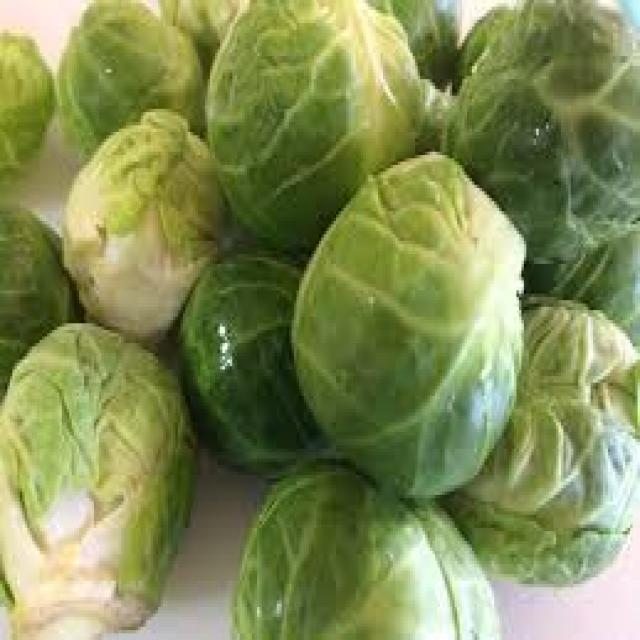organic waste: (287, 145, 526, 495), (0, 316, 195, 636), (435, 287, 637, 587), (440, 0, 637, 277), (203, 0, 420, 251), (227, 458, 502, 636), (59, 102, 225, 340), (175, 241, 324, 472), (52, 0, 200, 152), (0, 198, 79, 396), (519, 224, 637, 340), (0, 27, 52, 195), (363, 0, 457, 76), (368, 76, 455, 155), (158, 0, 242, 59), (415, 79, 452, 149)
